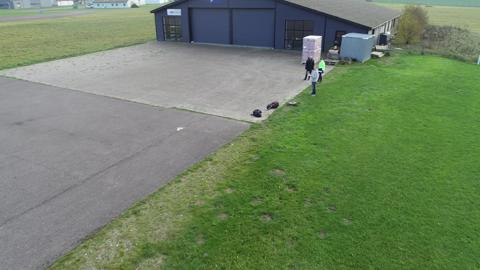RockwoolPallet: (302, 34, 323, 64)
